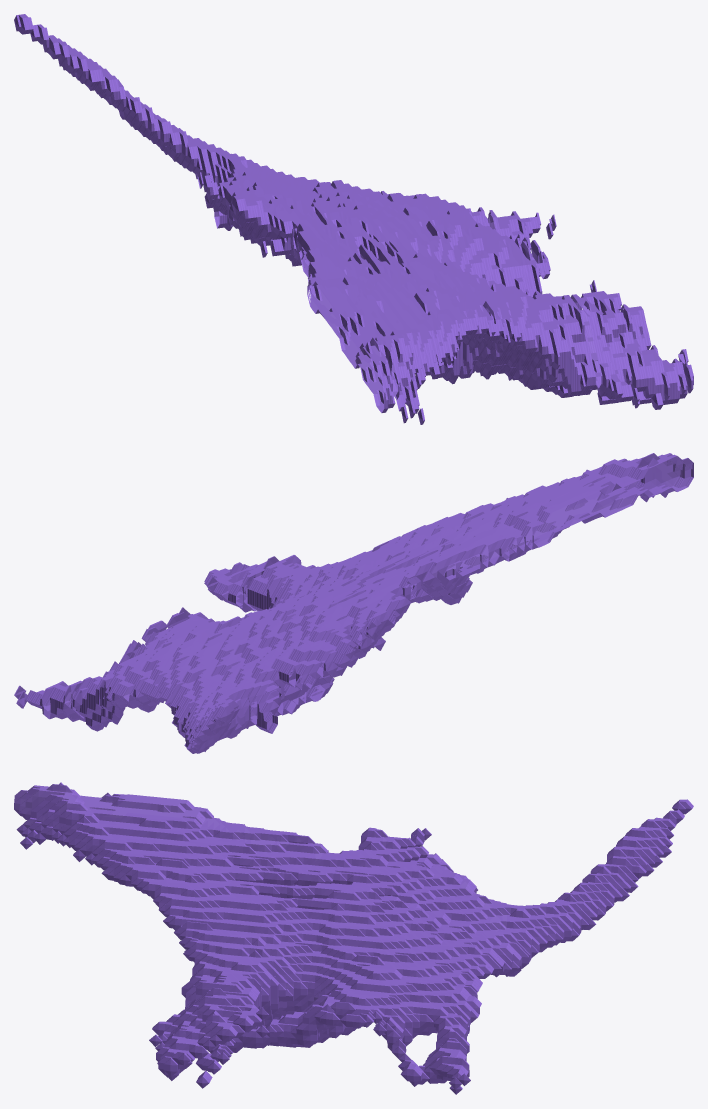
File: SVV_BWM-VL103.gltf
3 renders of one model, top to bottom at view 1: azimuth 30°, elevation 25°; view 2: azimuth 150°, elevation 25°; view 3: azimuth 270°, elevation 25°, orthographic. The views are drawn at different scales.
Parts seen in each view (by area): view 1: BWM-VL103; view 2: BWM-VL103; view 3: BWM-VL103.
Part boxes in pixels (x1=…): BWM-VL103: x1=14, y1=14, x2=693, y2=424; BWM-VL103: x1=14, y1=453, x2=693, y2=753; BWM-VL103: x1=14, y1=782, x2=693, y2=1094.
Size of the model in its own units: 38972 by 18477 by 65550.
